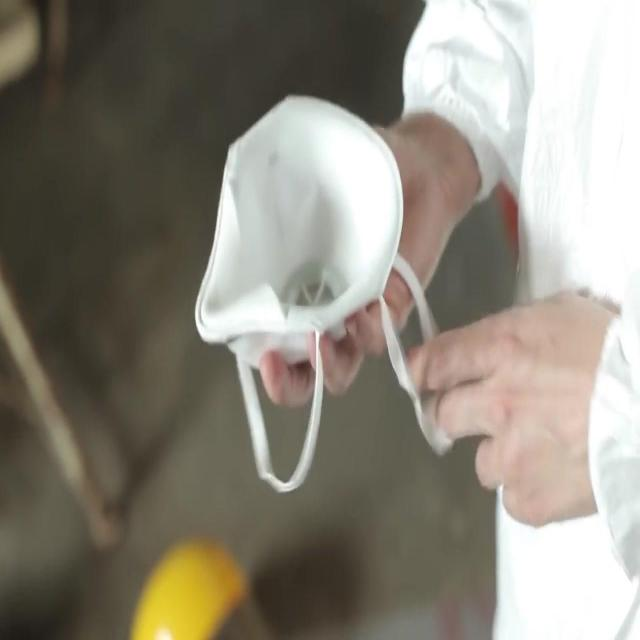Mask: (172, 106, 464, 389)
